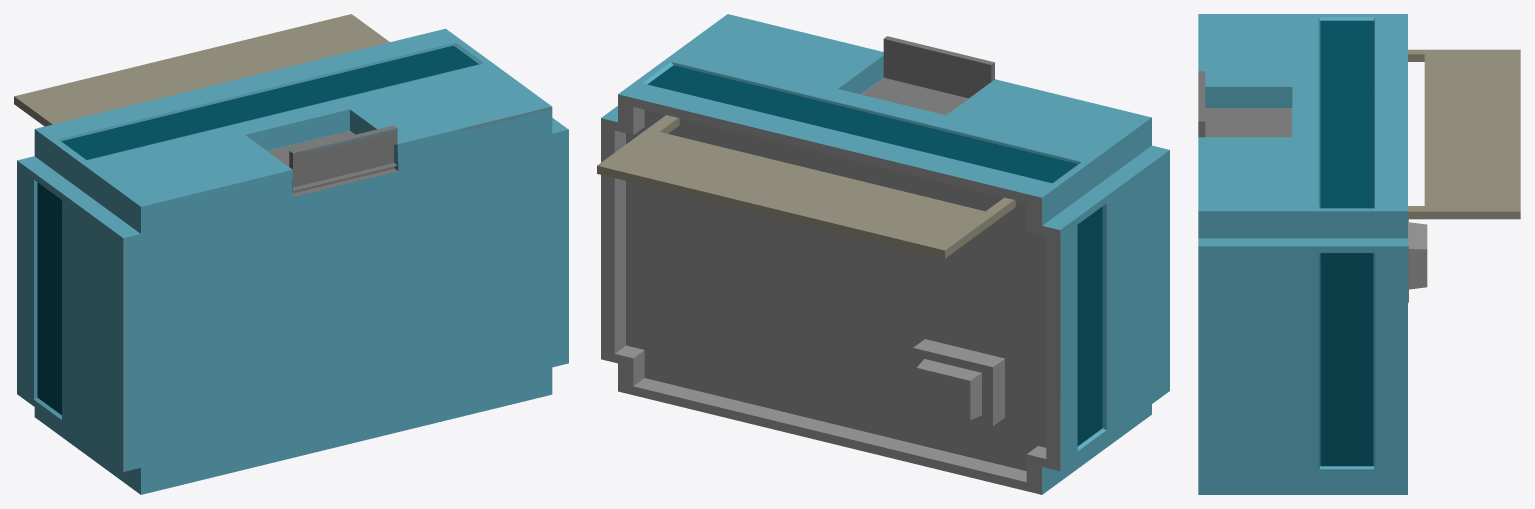
File: stores-buildings-billboard.obj
The picture shows the model from 3 angles, left to right: view 1: azimuth 30°, elevation 25°; view 2: azimuth 150°, elevation 25°; view 3: azimuth 270°, elevation 25°; orthographic projection. The views are drawn at different scales.
Visible parts, largest first — view 1: stores-buildings-billboard_Plane.151; view 2: stores-buildings-billboard_Plane.151; view 3: stores-buildings-billboard_Plane.151.
Part boxes in pixels (left/top/right/bottom): stores-buildings-billboard_Plane.151: left=14, top=14, right=568, bottom=494; stores-buildings-billboard_Plane.151: left=597, top=14, right=1169, bottom=494; stores-buildings-billboard_Plane.151: left=1198, top=14, right=1520, bottom=494.
Size of the model in its own units: 9.57 by 6.25 by 6.09.
